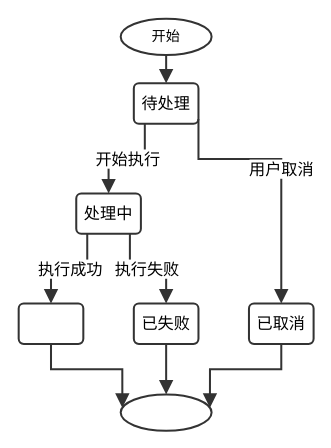
Some shapes in this 331 by 448 pixel diagram are drawn without their labels. Here are the shapes that lost their labels. From the top down, the box of each, then its label:
(17, 302, 84, 344): 已完成
(119, 393, 212, 431): 结束
